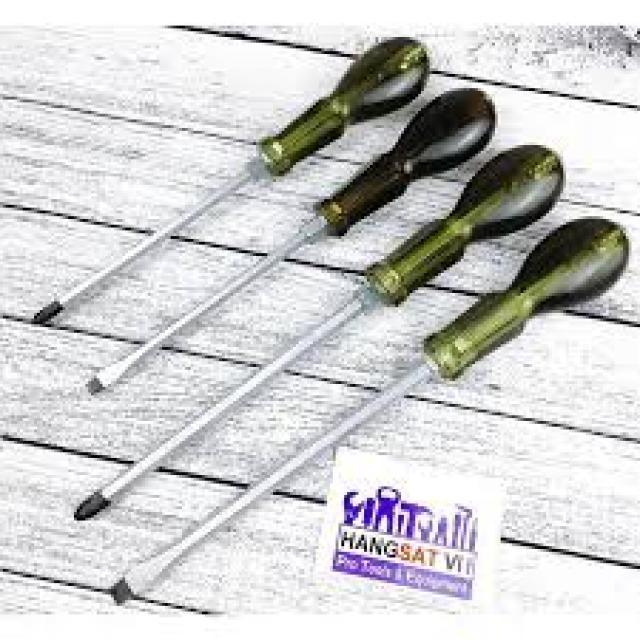screwdriver: (106, 216, 634, 609), (68, 143, 566, 528), (80, 84, 500, 397), (27, 35, 431, 328)
